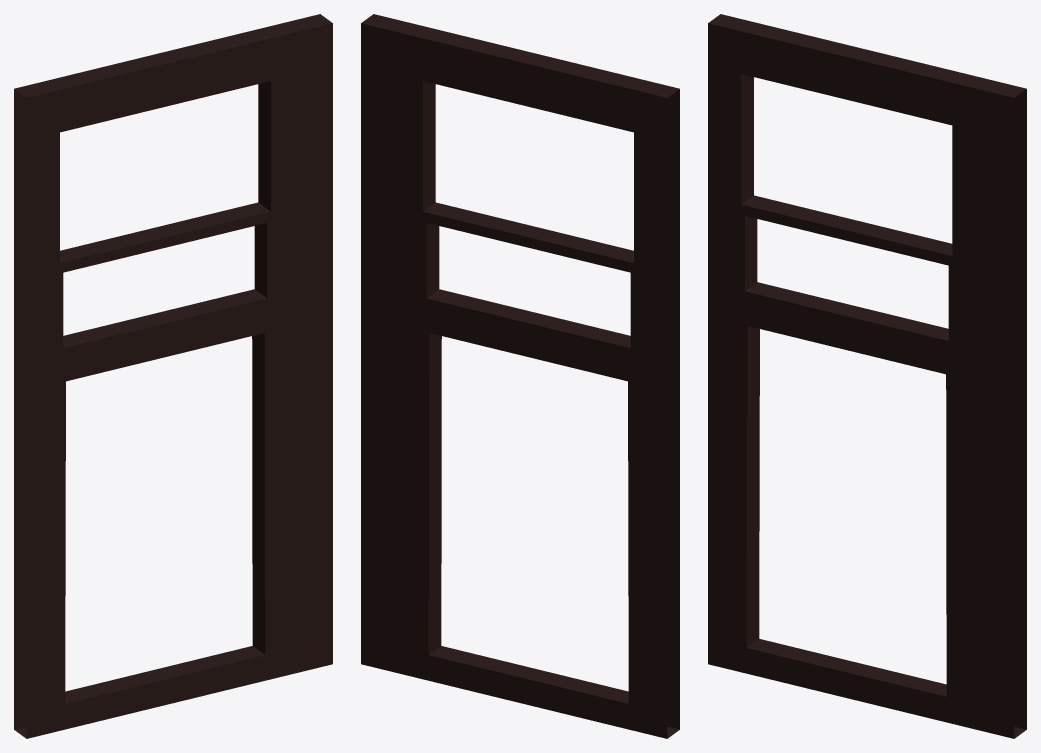
File: SM_shopping_wall_02.fbx
The picture shows the model from 3 angles, left to right: view 1: azimuth 30°, elevation 25°; view 2: azimuth 150°, elevation 25°; view 3: azimuth 330°, elevation 25°; orthographic projection.
Parts seen in each view (by area): view 1: shopping_wall_02; view 2: shopping_wall_02; view 3: shopping_wall_02.
Boxes of the visible parts, <box> form: shopping_wall_02: <box>14,14,332,738</box>; shopping_wall_02: <box>361,14,679,738</box>; shopping_wall_02: <box>708,14,1026,738</box>.
Size of the model in its own units: 98.66 by 197 by 7.05.
